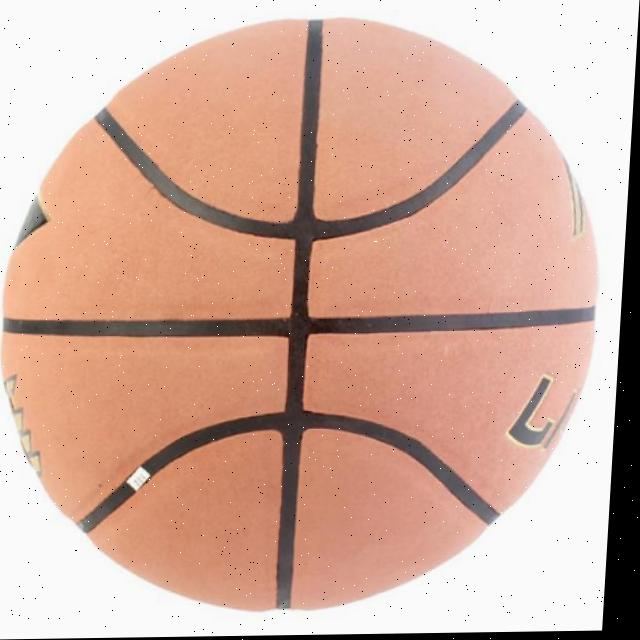Basketball: (0, 12, 613, 615)
